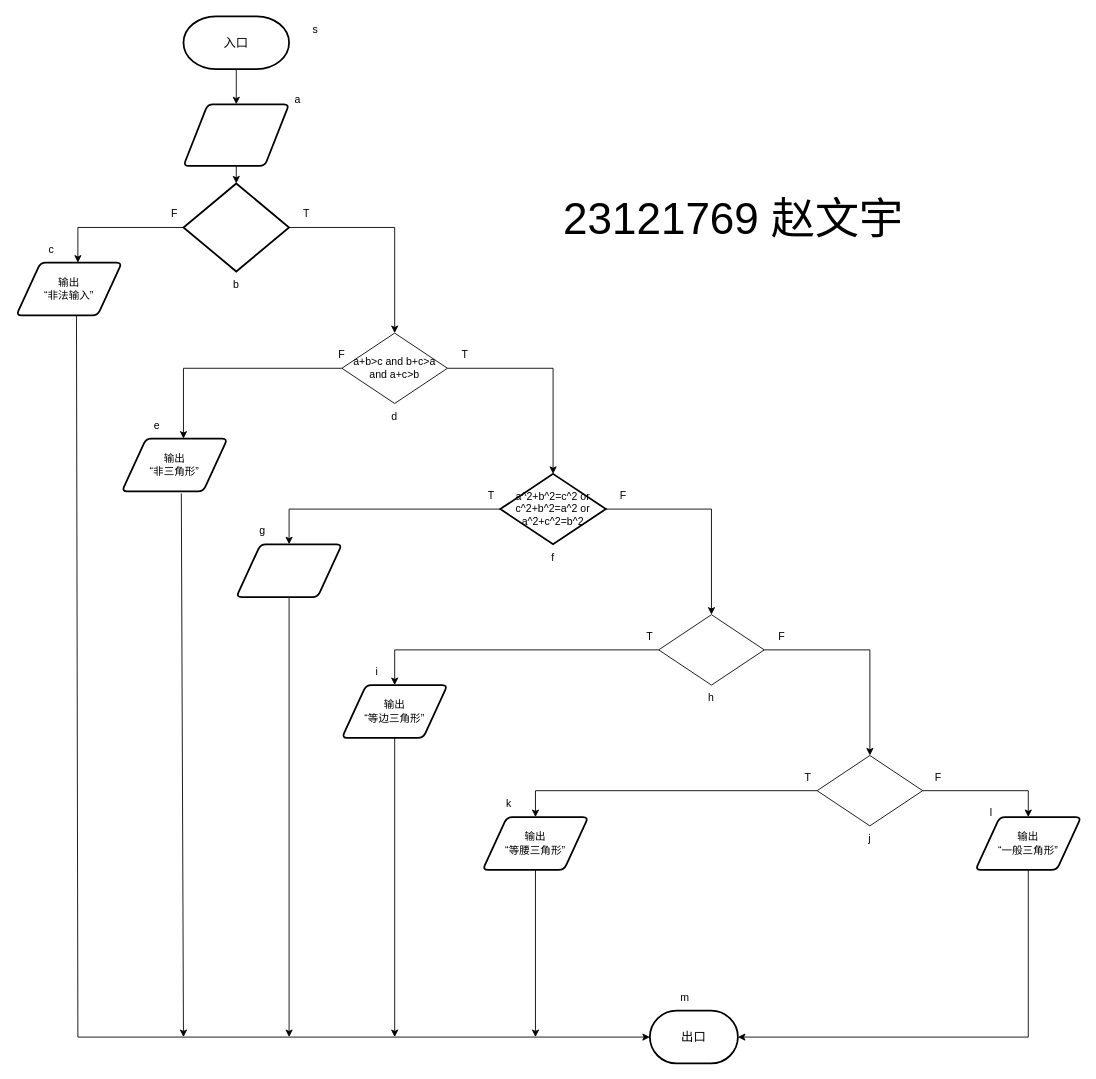
The diagram is 1096 pixels wide and 1079 high, and some of its shapes have lost their labels. The shapes that lost their labels are listed below. From the top down, each one's box as (x1, y1, x2, y2) in pixels, then its label:
(182, 103, 290, 166): 输入a、b、c
(182, 182, 290, 272): a>0 and b>0 and c>0
(235, 543, 342, 598): 输出 “直角三角形”
(658, 614, 764, 685): a=b and b=c
(816, 755, 923, 826): a=b or b=c or a=c
